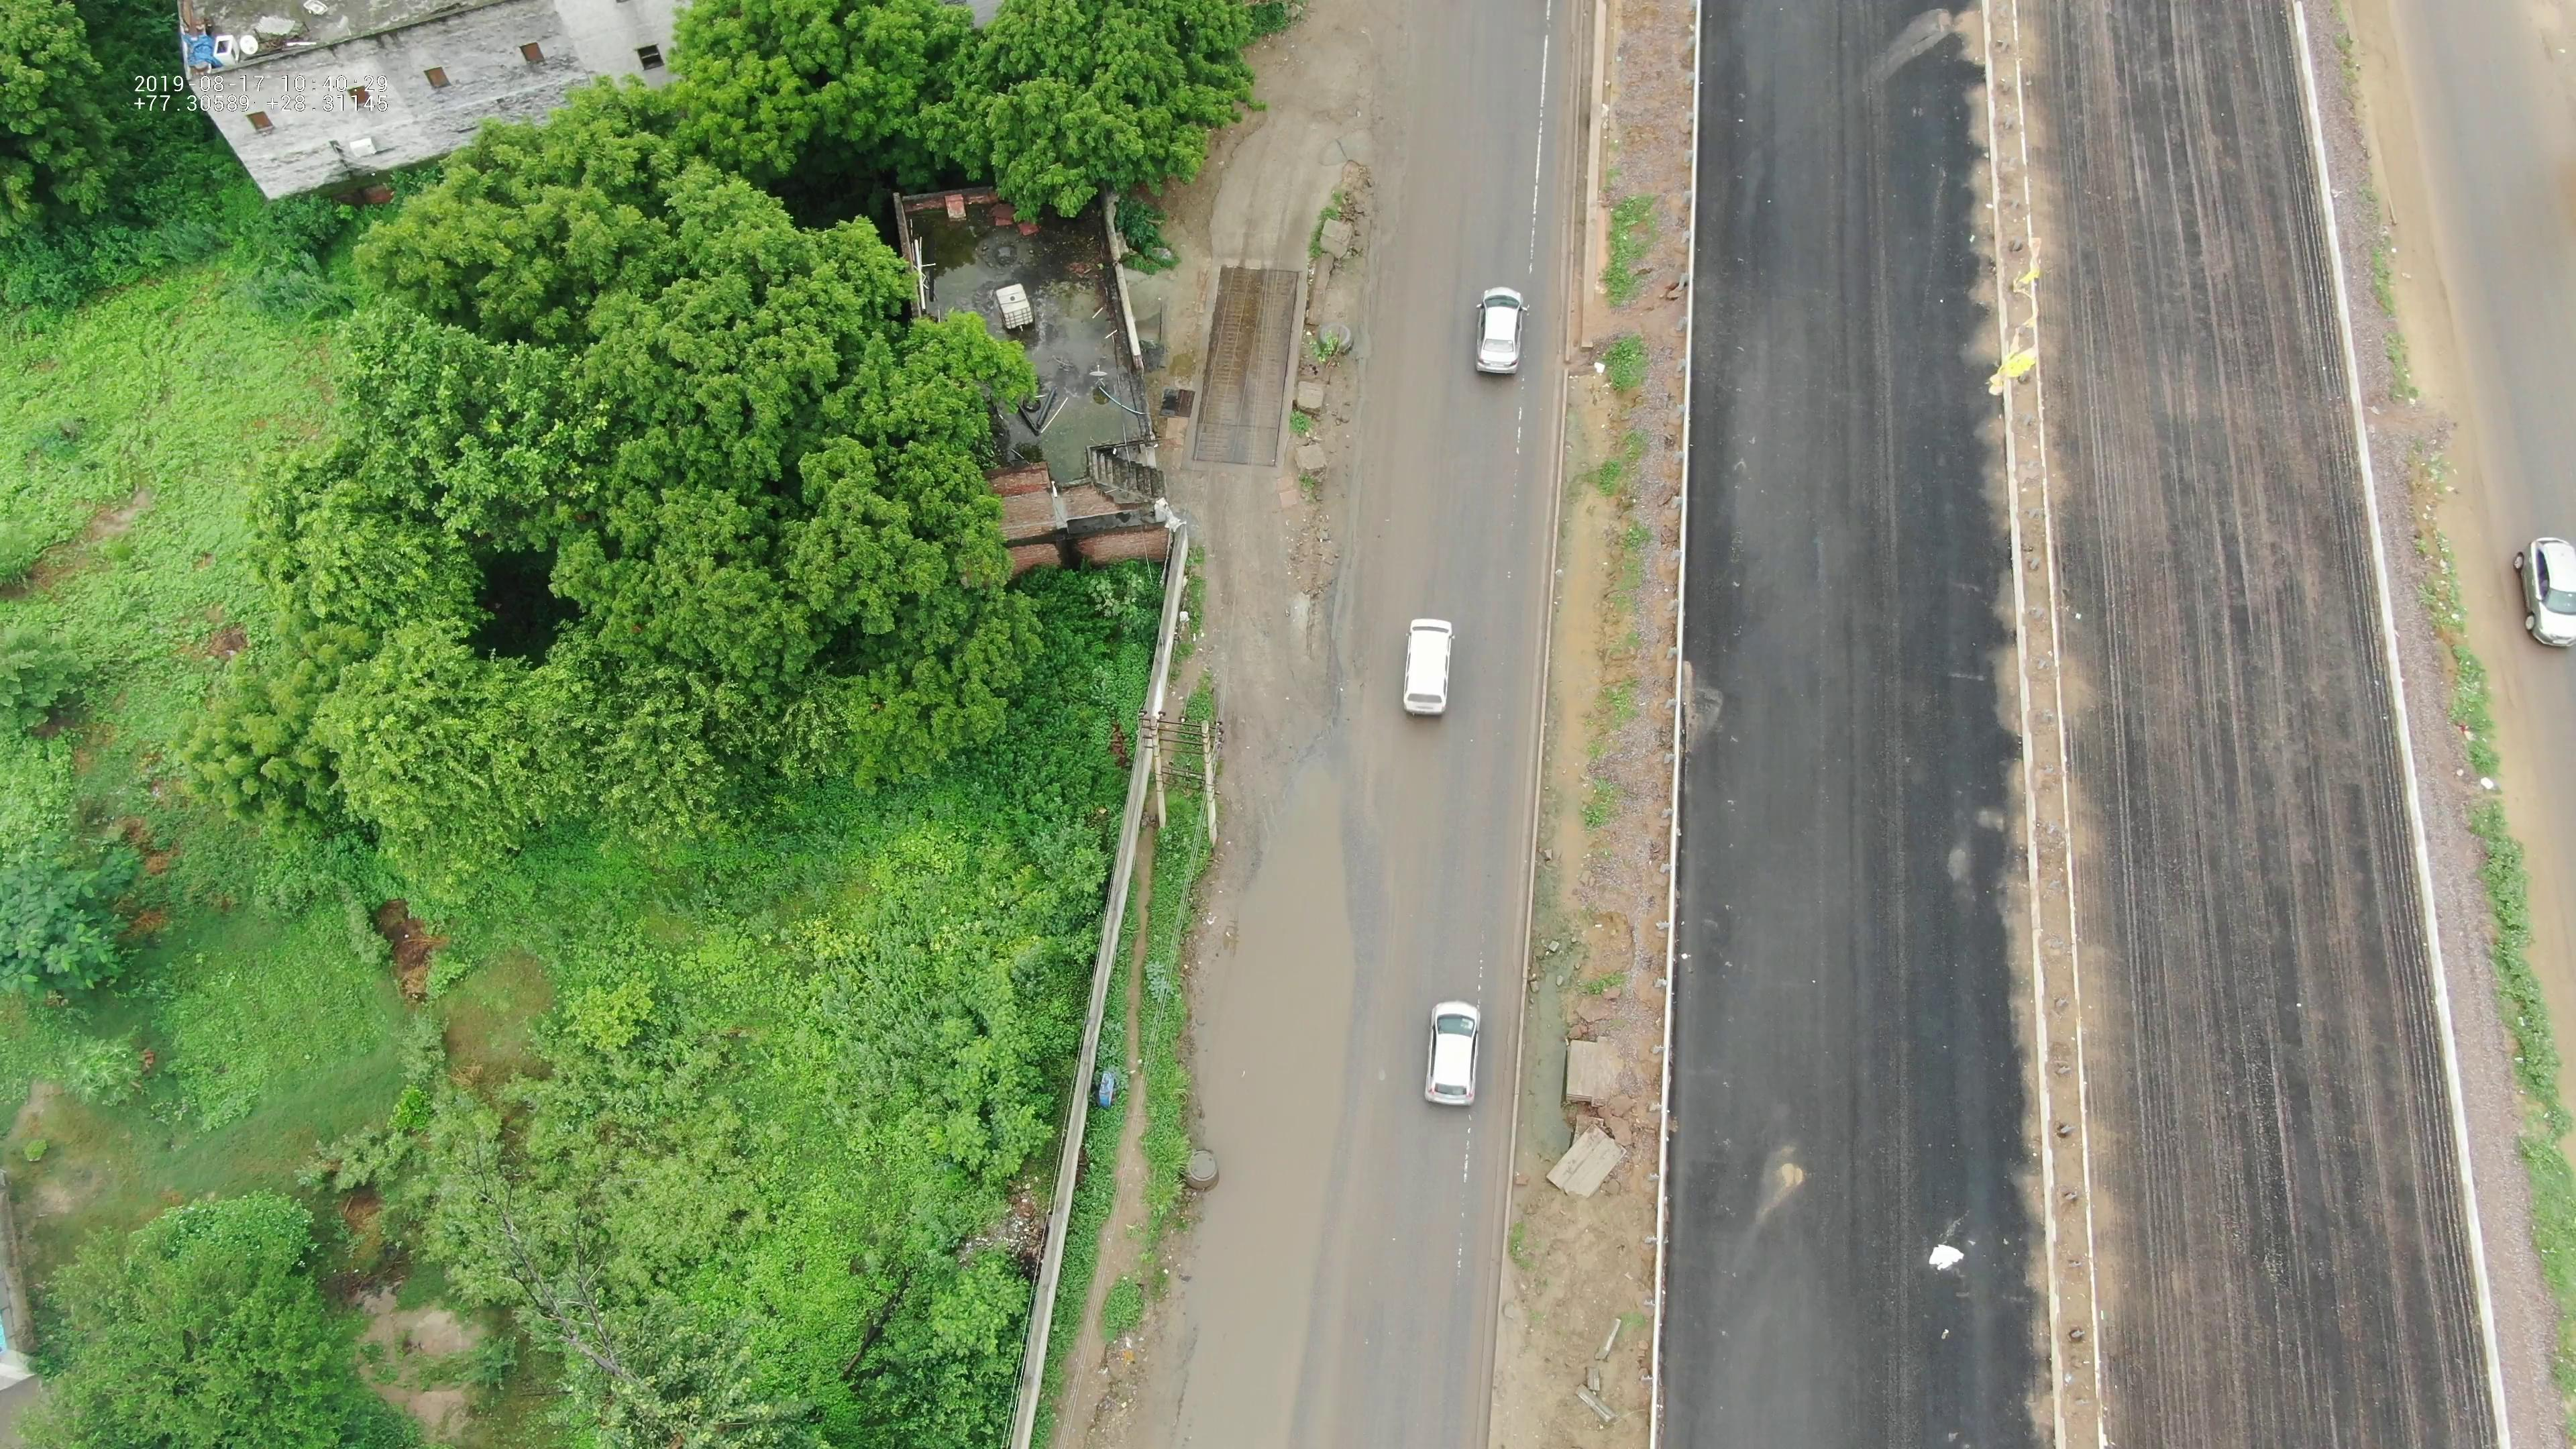Waterlogging: (1148, 757, 1355, 1438)
